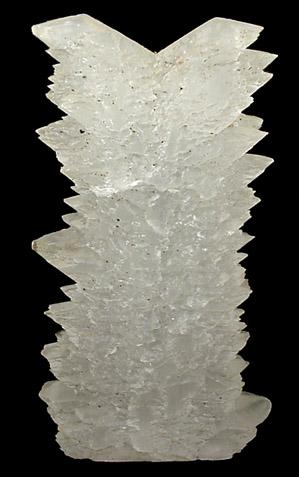gypsum: (32, 15, 276, 462)
